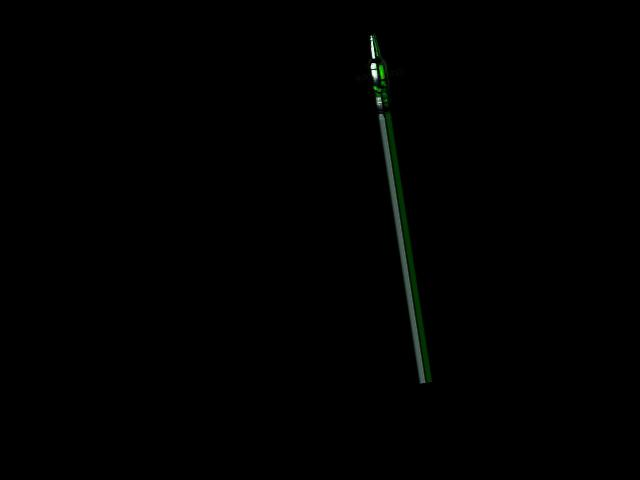beer: (365, 33, 392, 104)
